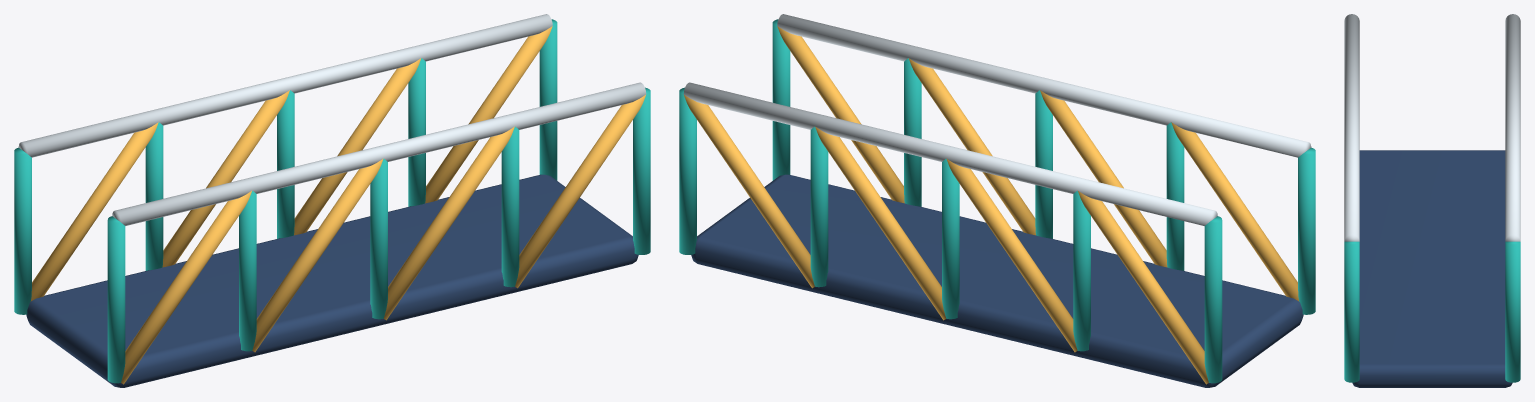
Rendered from truss-bridge-lite.glb.
3 renders of one model, left to right at view 1: azimuth 30°, elevation 25°; view 2: azimuth 150°, elevation 25°; view 3: azimuth 270°, elevation 25°, orthographic. The views are drawn at different scales.
Visible parts, largest first — view 1: Bridge deck; view 2: Bridge deck; view 3: Bridge deck.
Part boxes in pixels (x1,y1,x2,y2): Bridge deck: [14, 14, 650, 387]; Bridge deck: [679, 14, 1315, 387]; Bridge deck: [1344, 14, 1520, 387].
Size of the model in its own units: 2.47 by 0.795 by 0.81.
